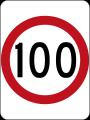Speed Limit -100-: (13, 40, 76, 80)
